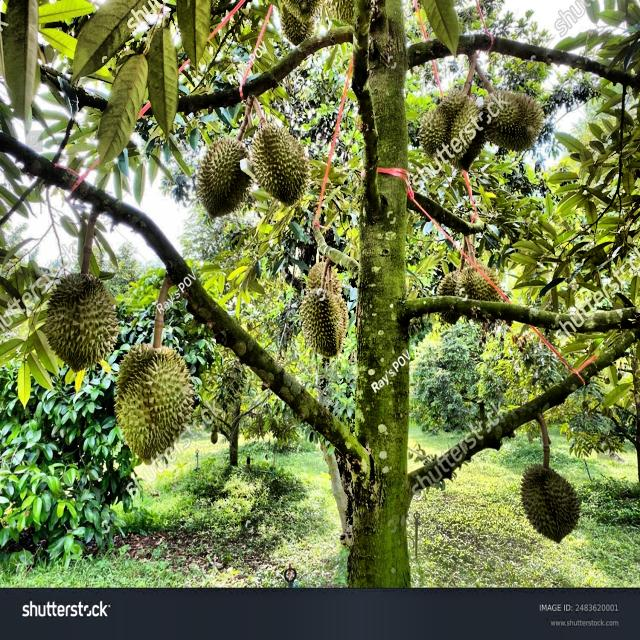arvore: (322, 0, 443, 598)
